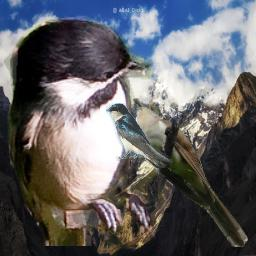Cuckoo: (133, 98, 248, 247)
Swallow: (4, 12, 161, 246), (106, 103, 173, 168)
